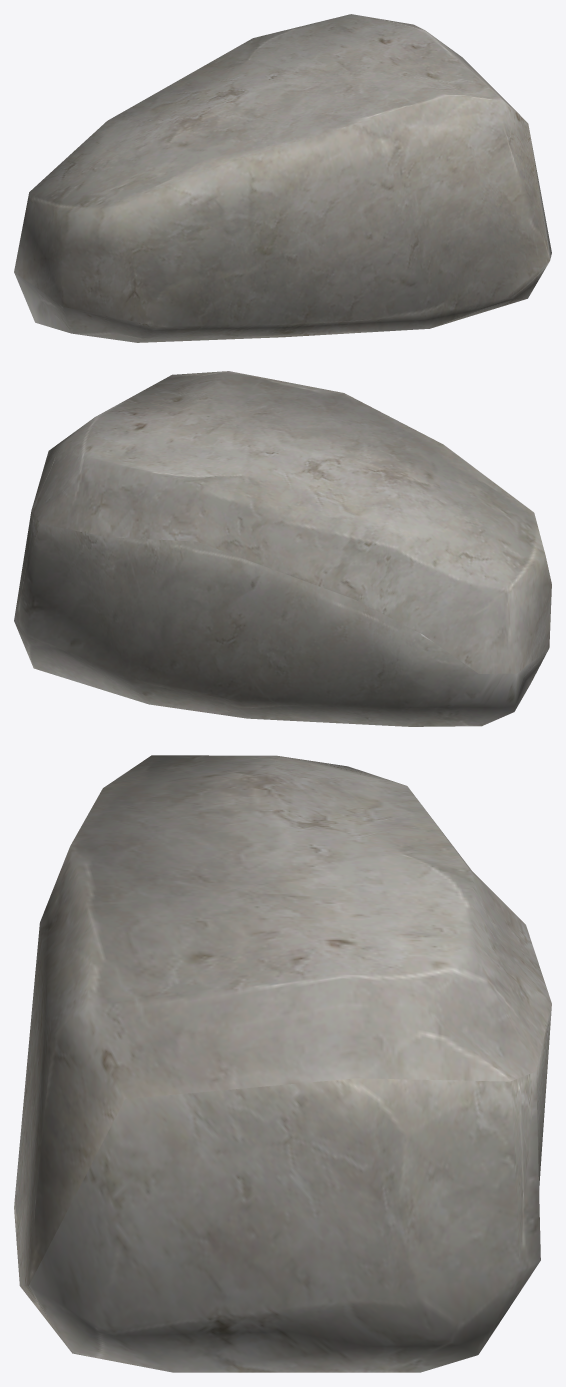
File: Rock_04_high.glb
3 renders of one model, top to bottom at view 1: azimuth 30°, elevation 25°; view 2: azimuth 150°, elevation 25°; view 3: azimuth 270°, elevation 25°, orthographic. The views are drawn at different scales.
Visible parts, largest first — view 1: rock_04; view 2: rock_04; view 3: rock_04.
Boxes of the visible parts, x1=… form: rock_04: x1=14, y1=14, x2=551, y2=342; rock_04: x1=14, y1=371, x2=551, y2=726; rock_04: x1=14, y1=755, x2=551, y2=1372.
Bounding box in the file's own units: 1.78 × 0.8869 × 1.07.
1 material, 1 textured.
